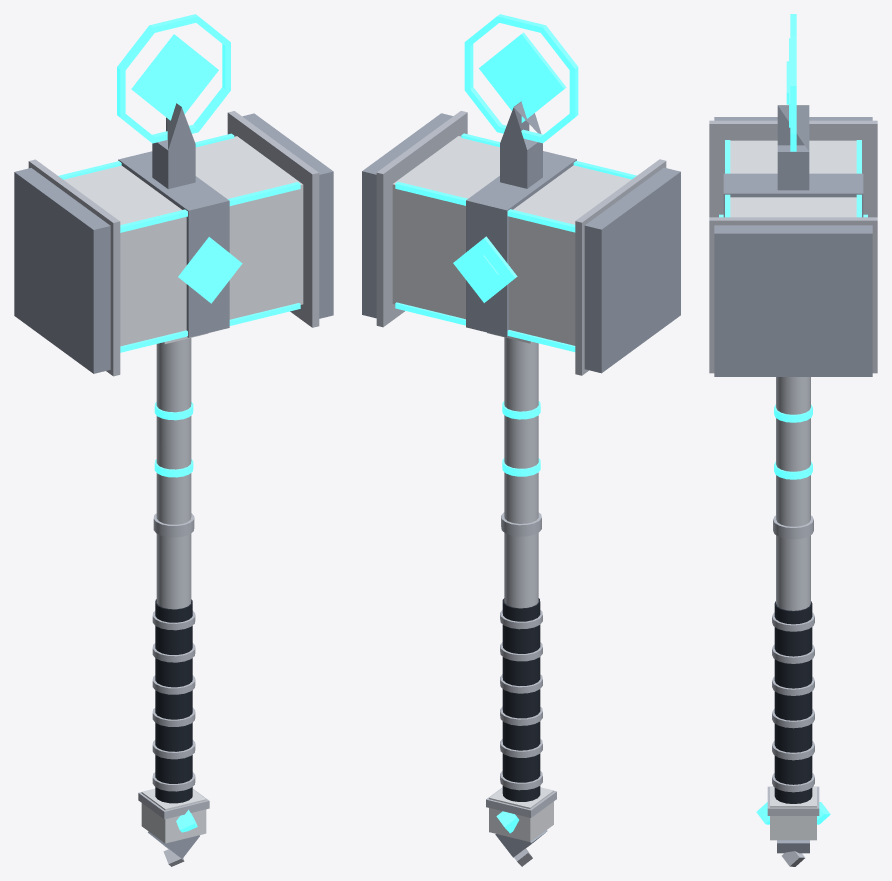
3 views of the same model, side by side, from view 1: azimuth 30°, elevation 25°; view 2: azimuth 150°, elevation 25°; view 3: azimuth 270°, elevation 25° (orthographic).
Visible parts, largest first — view 1: bastion-maul; view 2: bastion-maul; view 3: bastion-maul.
Part boxes in pixels (left/top/right/bottom): bastion-maul: left=14, top=14, right=333, bottom=866; bastion-maul: left=362, top=14, right=680, bottom=866; bastion-maul: left=709, top=14, right=877, bottom=866.
Size of the model in its own units: 0.474 by 1.6 by 0.2895.
